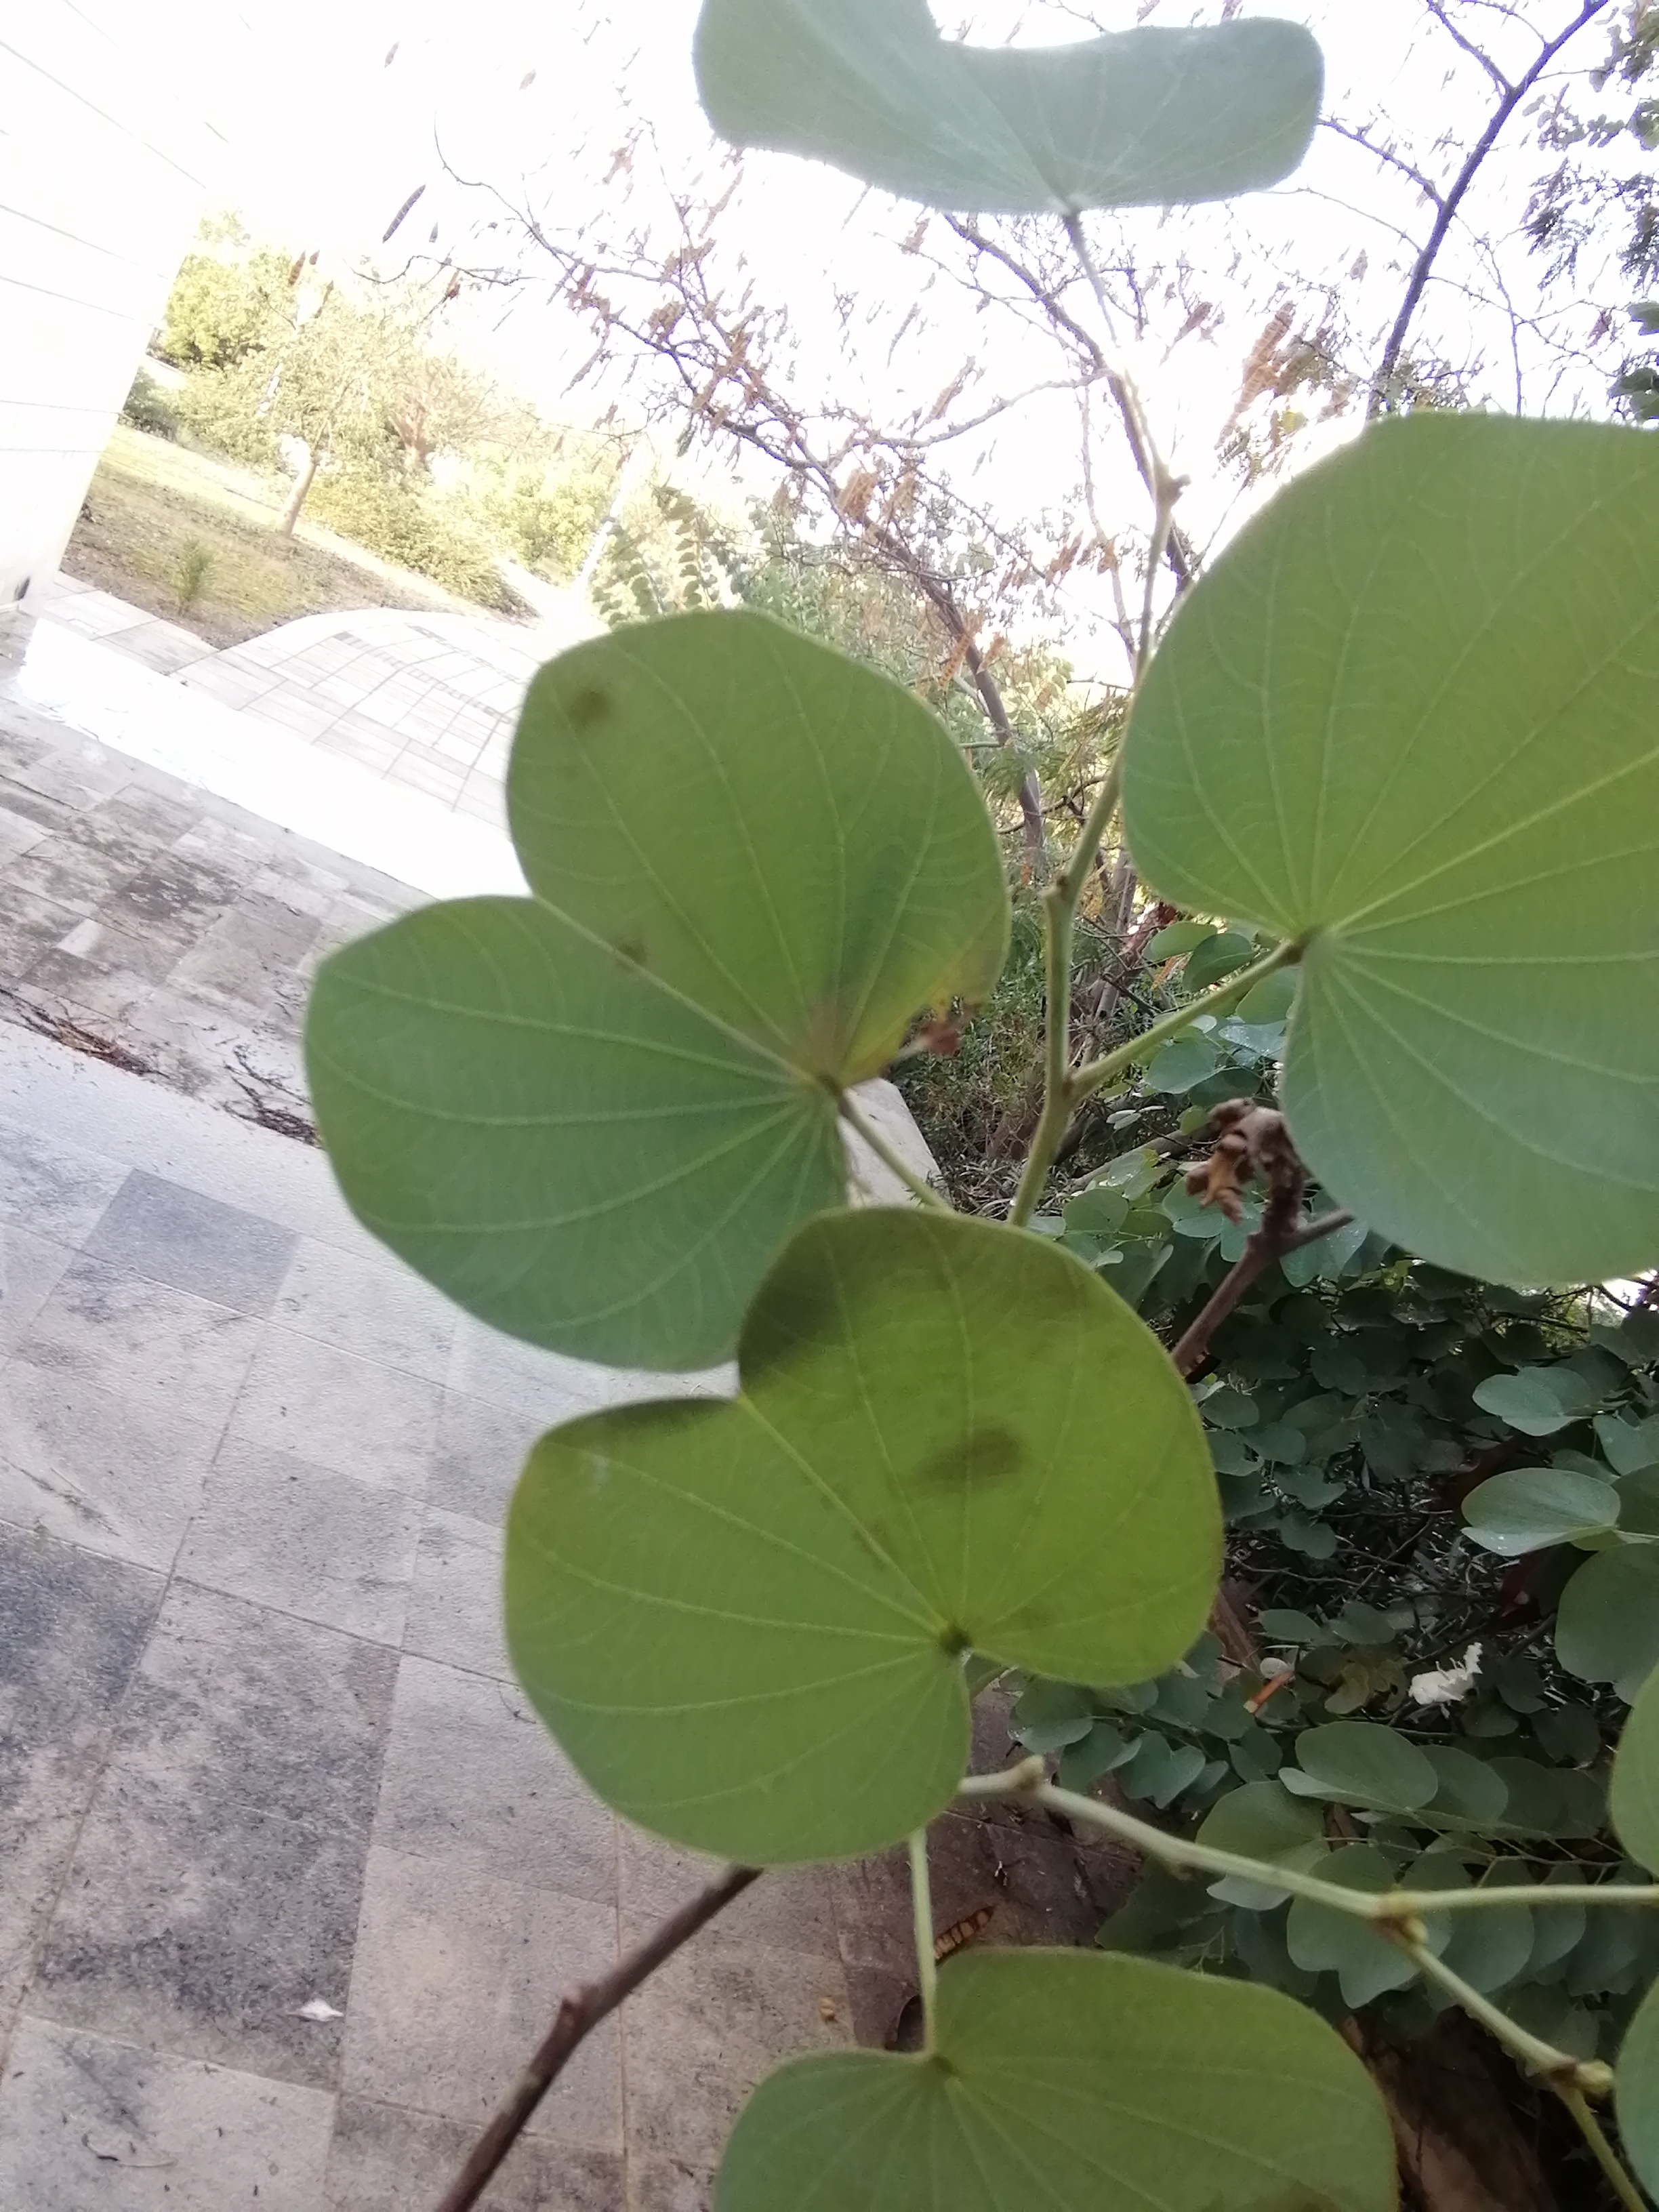healthy: (1060, 390, 1652, 1352), (342, 629, 1054, 1367), (444, 1245, 1199, 1851)
